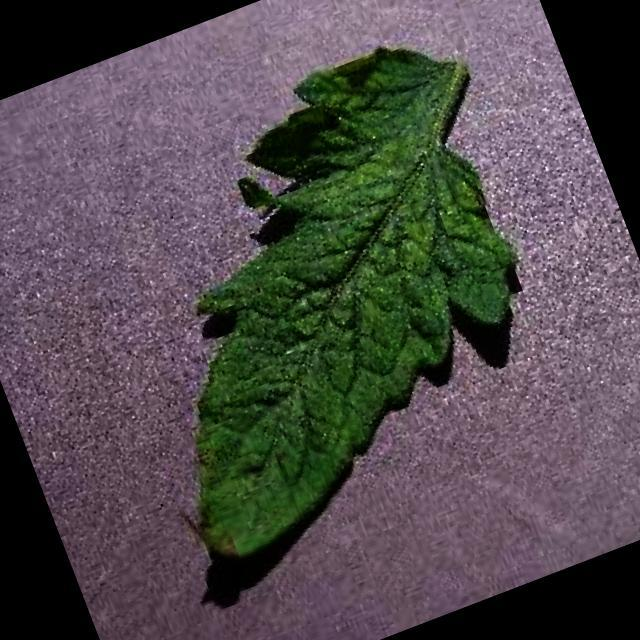Tomato mosaic virus leaf: (54, 22, 590, 572)
